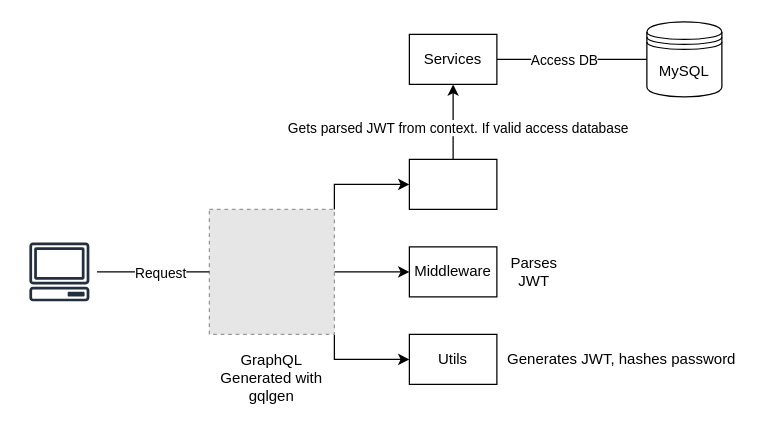
This 781x431 diagram has some shape labels left out. Grey dashed boxes stand in for pictures. Each missing label, with the centre of its shape:
Client: (59,271)
Resolver: (452,183)
